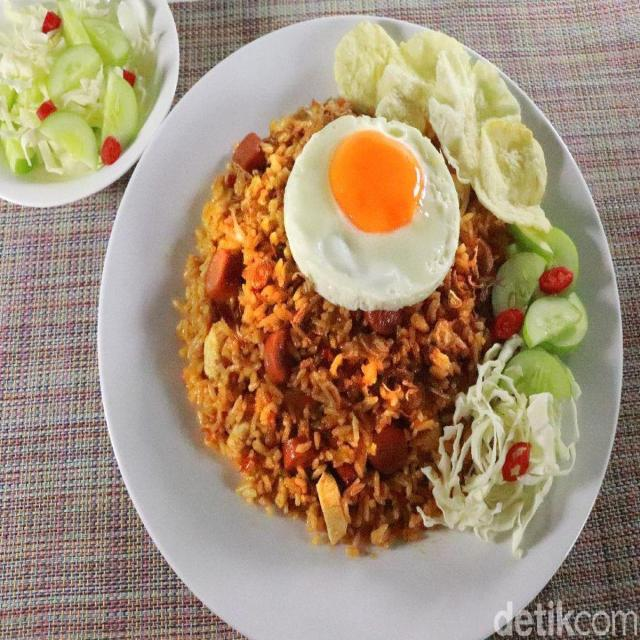Nasi Goreng: (186, 138, 496, 550)
